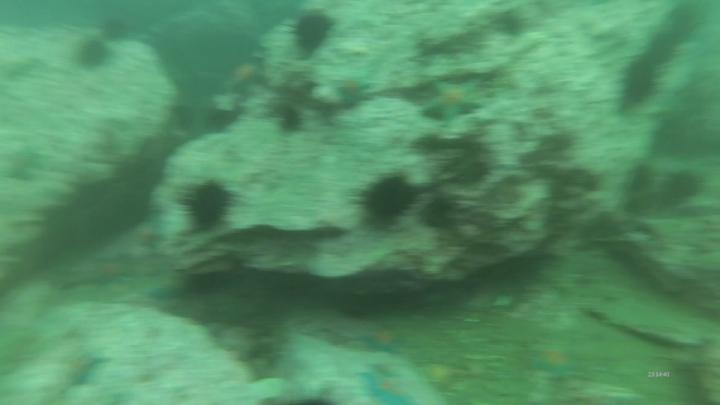echinus: (354, 169, 422, 229), (184, 180, 237, 233), (279, 10, 334, 55), (620, 55, 658, 104), (661, 167, 699, 202), (669, 4, 701, 40), (649, 31, 679, 67), (77, 42, 112, 71), (279, 100, 304, 132)
starfish: (424, 77, 487, 128), (352, 362, 418, 405), (531, 337, 590, 382), (58, 347, 113, 392), (330, 70, 377, 110), (358, 326, 409, 360), (86, 258, 132, 292), (228, 62, 265, 96), (136, 220, 168, 254), (146, 280, 185, 306)
